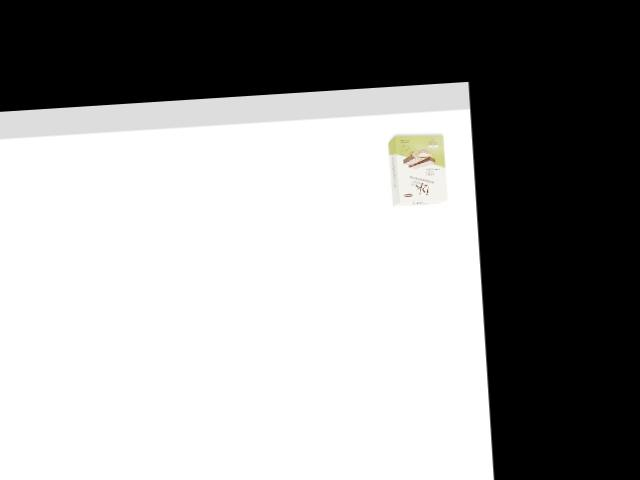chocolate: (383, 128, 454, 208)
